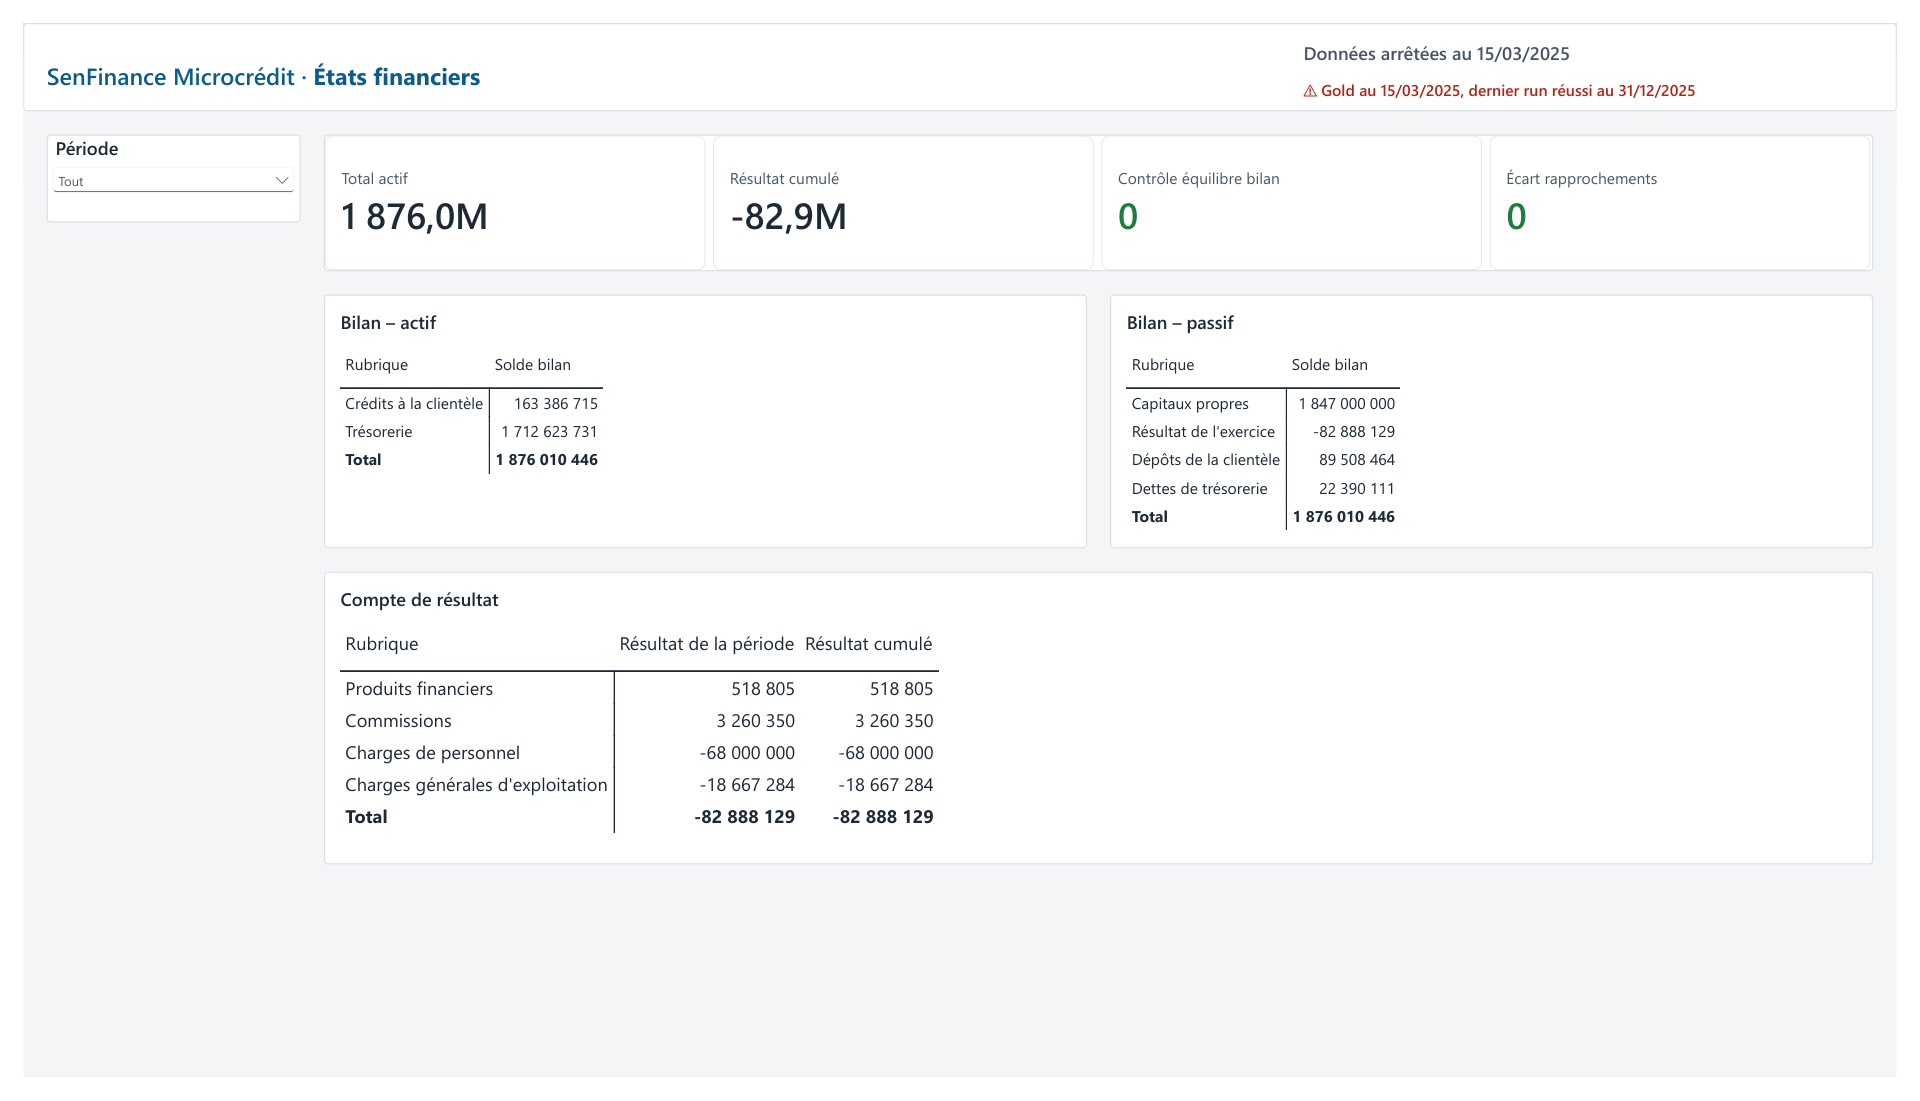

The page's visual inventory and layout, read from the dashboard file:
{"tool":"powerbi","page":{"name":"États financiers","canvas":[1920,1080],"ordinal":1},"visuals":[{"type":"shape","box":[0,0,1920,90],"z":0},{"type":"textbox","box":[24,20,1000,60],"z":1000},{"type":"cardVisual","fields":{"Data":["_Mesures.Bandeau arrêté"]},"box":[1296,10,600,40],"z":2000},{"type":"cardVisual","fields":{"Data":["_Mesures.Alerte fraîcheur"]},"box":[1296,50,600,34],"z":3000},{"type":"cardVisual","title":"États financiers","fields":{"Data":["_Mesures.Total actif","_Mesures.Résultat cumulé","_Mesures.Contrôle équilibre bilan","_Mesures.Écart rapprochements"]},"box":[308,114,1588,140],"z":4000},{"type":"pivotTable","title":"Bilan – actif","fields":{"Rows":["mart_bilan.libelle_rubrique"],"Values":["_Mesures.Solde bilan"]},"box":[308,278,782,260],"z":5000},{"type":"pivotTable","title":"Bilan – passif","fields":{"Rows":["mart_bilan.libelle_rubrique"],"Values":["_Mesures.Solde bilan"]},"box":[1114,278,782,260],"z":6000},{"type":"pivotTable","title":"Compte de résultat","fields":{"Rows":["mart_compte_resultat.libelle_rubrique"],"Values":["_Mesures.Résultat du mois","_Mesures.Résultat cumulé"]},"box":[308,562,1588,300],"z":7000},{"type":"slicer","fields":{"Values":["dim_date.annee_mois"]},"box":[24,114,260,90],"z":8000}]}

Visuals, with their boxes in screenshot pixels (x1, y1, x2, y2), scaled from the page's 1920x1080 canvas onto the 1920x1101 screenshot:
shape: box(0, 0, 1919, 92)
textbox: box(24, 20, 1024, 82)
cardVisual - _Mesures.Bandeau arrêté: box(1296, 10, 1896, 51)
cardVisual - _Mesures.Alerte fraîcheur: box(1296, 51, 1896, 86)
"États financiers" cardVisual: box(308, 116, 1896, 259)
"Bilan – actif" pivotTable: box(308, 283, 1090, 548)
"Bilan – passif" pivotTable: box(1114, 283, 1896, 548)
"Compte de résultat" pivotTable: box(308, 573, 1896, 879)
slicer - dim_date.annee_mois: box(24, 116, 284, 208)
